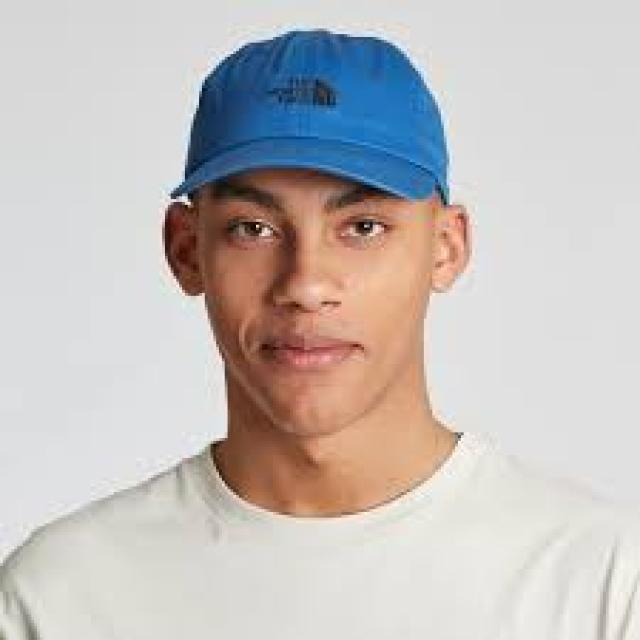cap: (157, 15, 486, 214)
